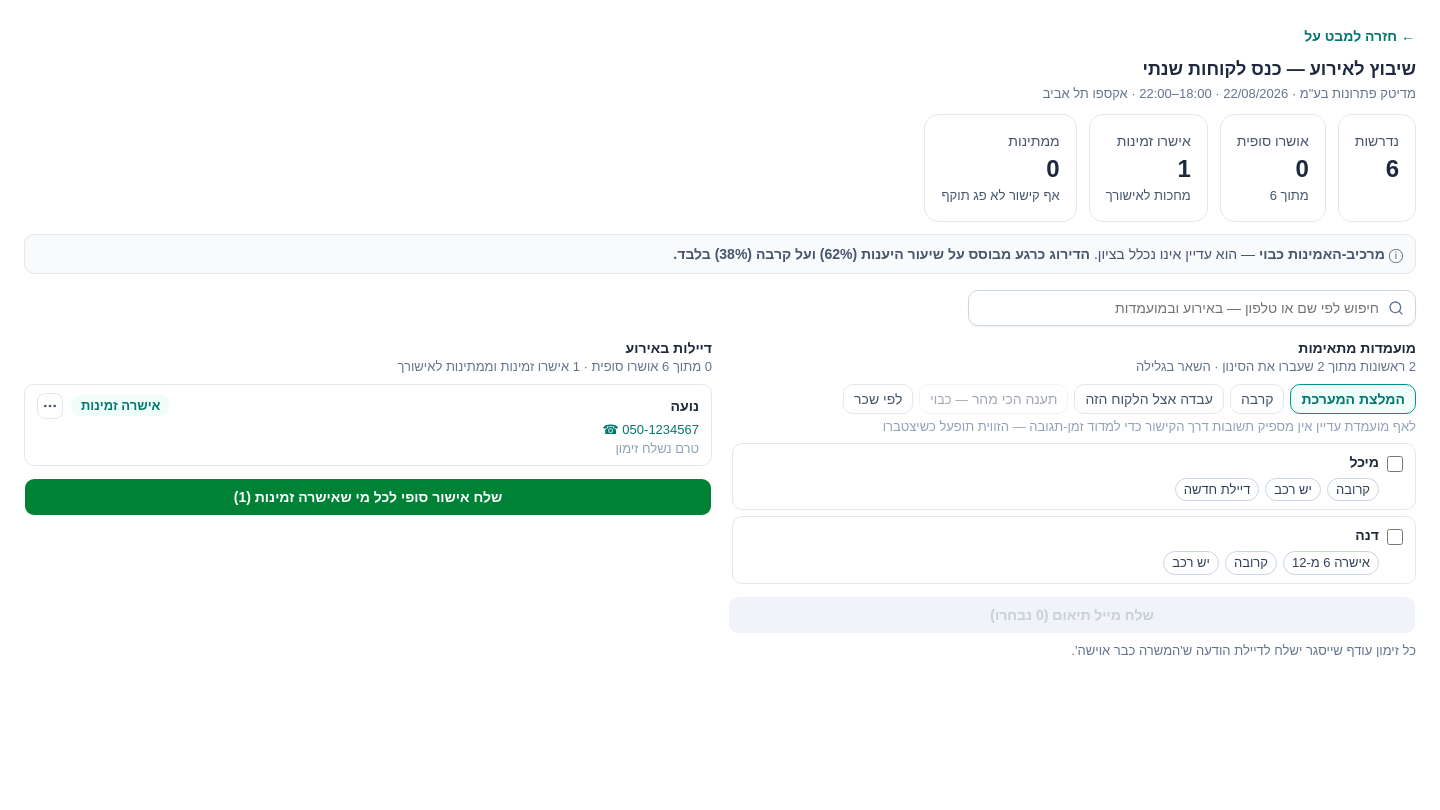
Test: 🎯 שיבוץ חכם — הסדר שהמנהלת רואה על המסך › חיפוש טלפון מוצא גם דיילת שכבר משויכת לאירוע ומבדיל בין אין תוצאות לאין מועמדות
The image size is (1440, 810).
Expected: the list item with test id "sm-event-row-1" is shown, [24,384,712,466]
Type "1234567" into the field with test id "sm-search" at x=1192, y=308, box [968,290,1416,326]
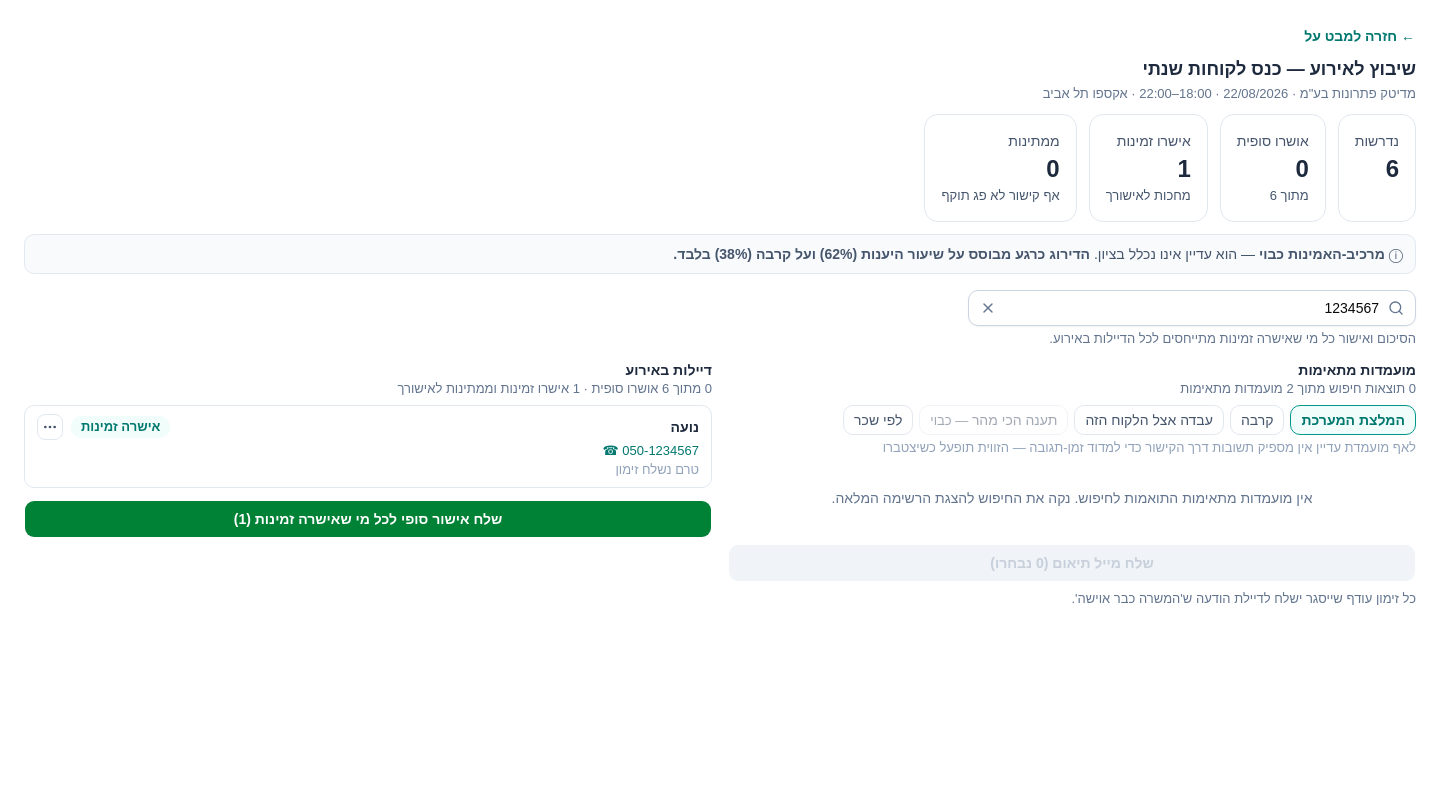
Expected: the list item with test id "sm-event-row-1" is shown, [24,405,712,488]
Result: the text with test id "sm-candidates-search-empty" is shown at [832,490,1312,506]
Replace the text in the field with test id "sm-search" with "לא קיימת" at x=1192, y=308, box [968,290,1416,326]
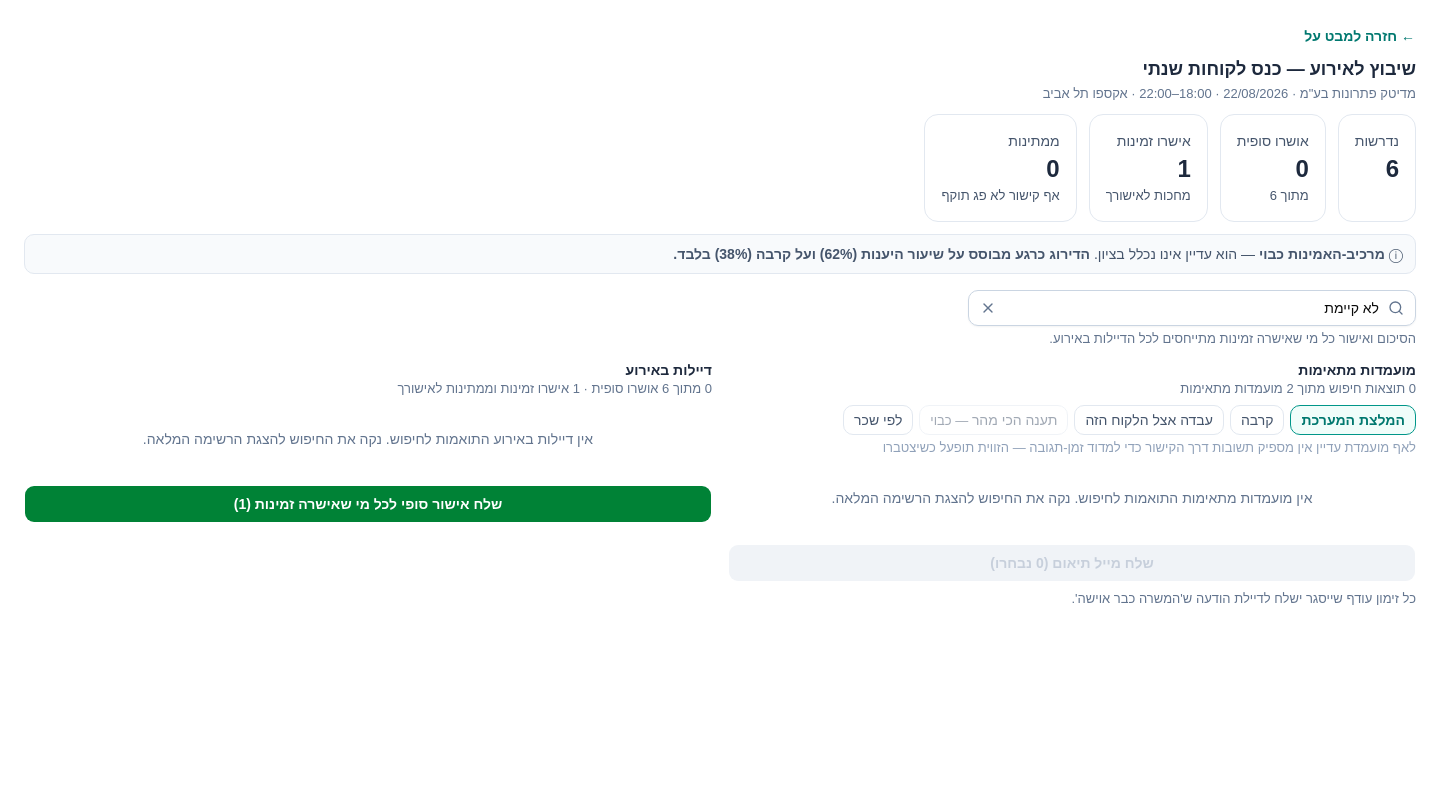
Result: the text with test id "sm-event-search-empty" is shown at [143,431,593,447]
